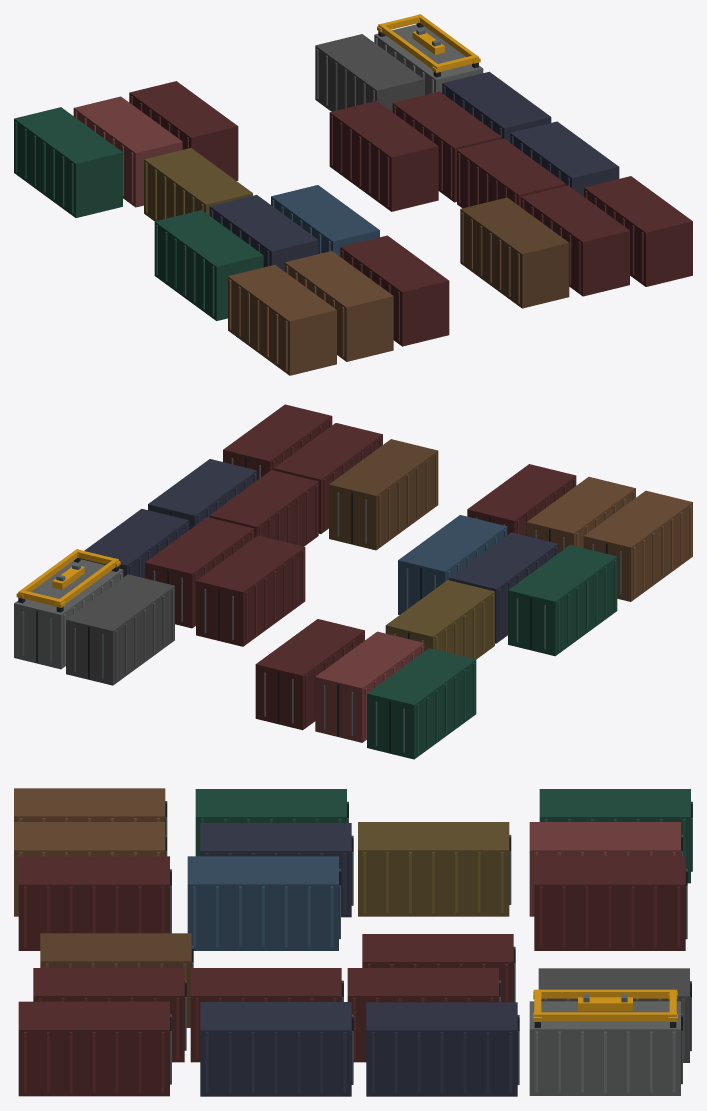
Rendered from containers-n-s-03.glb.
The picture shows the model from 3 angles, top to bottom: view 1: azimuth 30°, elevation 25°; view 2: azimuth 150°, elevation 25°; view 3: azimuth 270°, elevation 25°; orthographic projection. The views are drawn at different scales.
Visible parts, largest first — view 1: containers-n-s-03; view 2: containers-n-s-03; view 3: containers-n-s-03.
Boxes of the visible parts, x1=… form: containers-n-s-03: x1=14, y1=14, x2=692, y2=375; containers-n-s-03: x1=14, y1=404, x2=692, y2=759; containers-n-s-03: x1=14, y1=788, x2=692, y2=1096.
Bounding box in the file's own units: 50.26 × 8.25 × 59.24.
